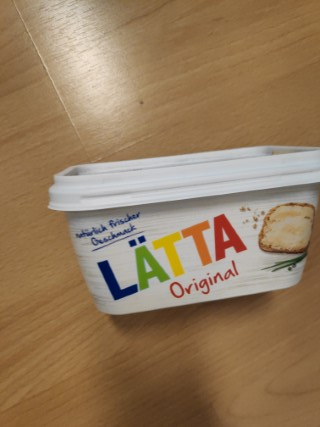laetta: (46, 143, 320, 316)
